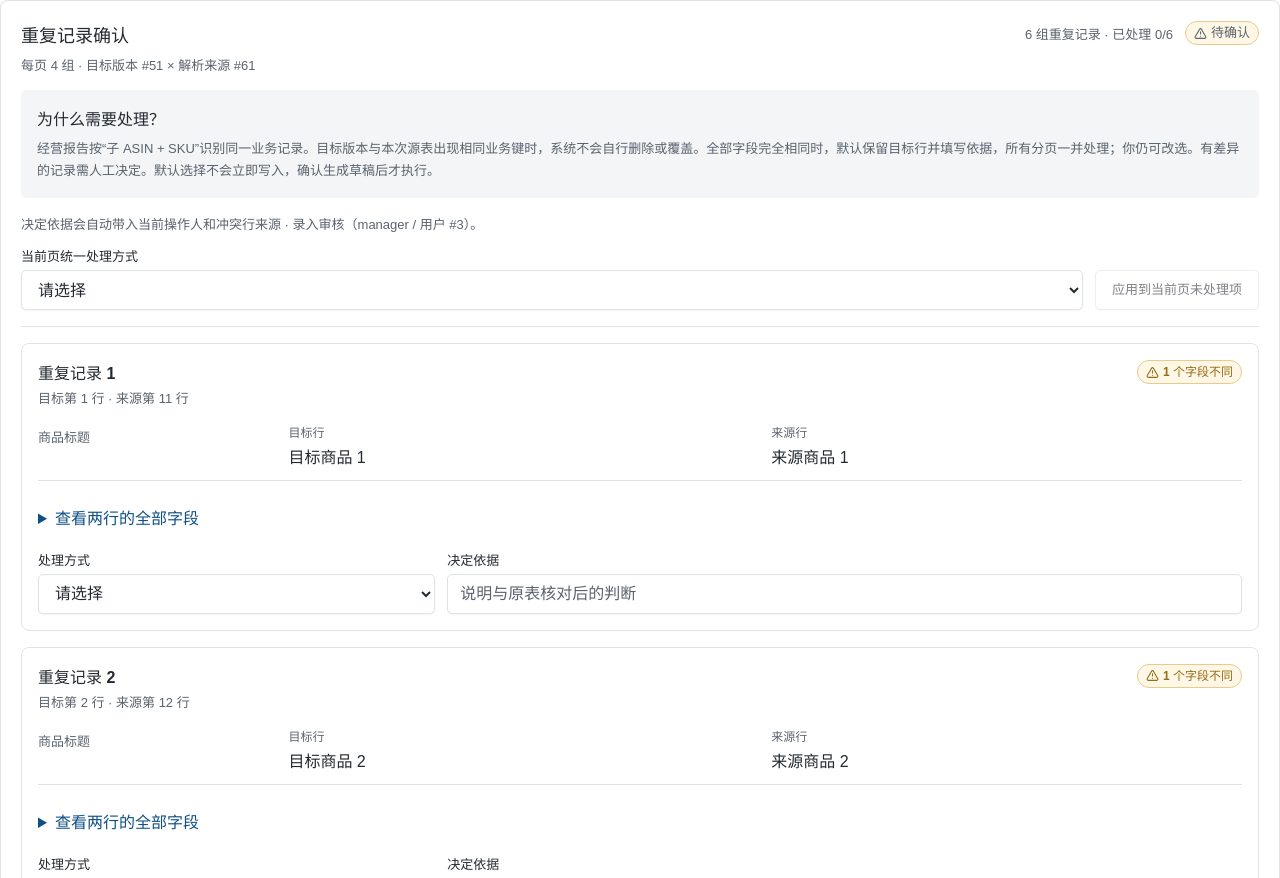
Test case: MergeDecisionMatrix › paginates long conflict lists and applies an auditable action to pending rows on the current page
The width and height of the screenshot is (1280, 878).
Expected: the text "6 组重复记录 · 已处理 0/6" is shown, x1=1025 y1=24 x2=1173 y2=43
Select "保留目标行" in the dropdown labelled "当前页统一处理方式": (552, 290) x1=21 y1=270 x2=1083 y2=310
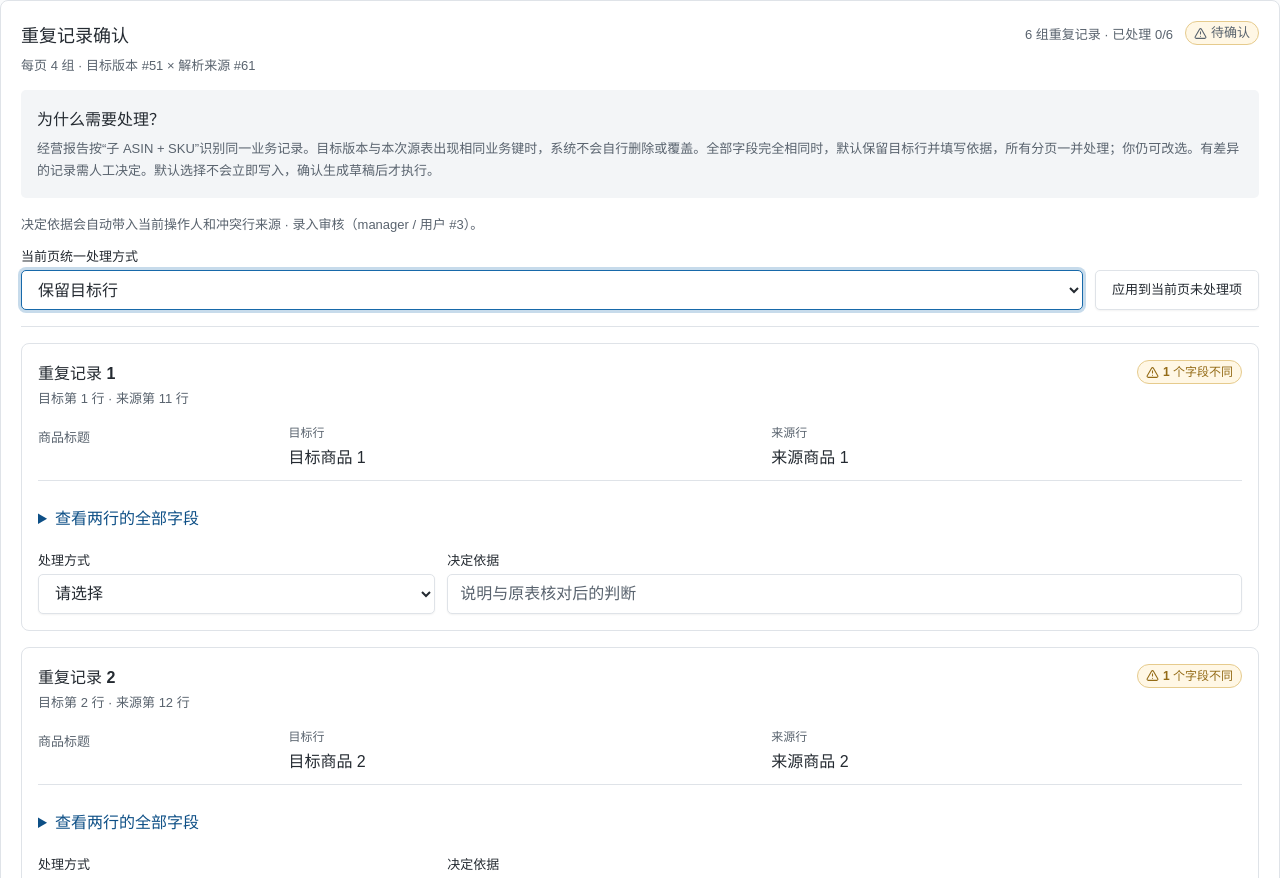
Click the button "应用到当前页未处理项": (1177, 290) x1=1095 y1=270 x2=1259 y2=310
(page scrolled)
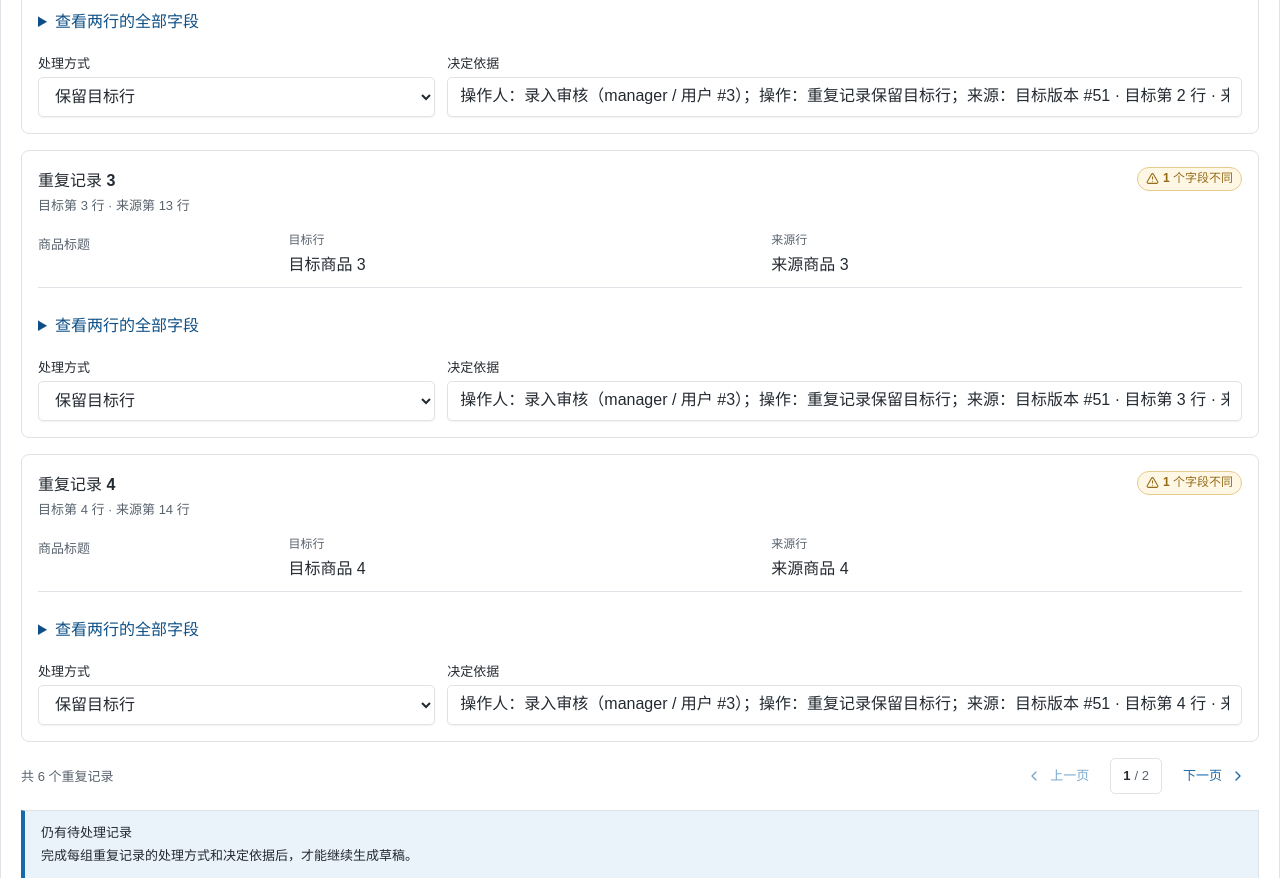
Click the button "下一页": (1214, 776) x1=1170 y1=758 x2=1259 y2=794
(page scrolled)
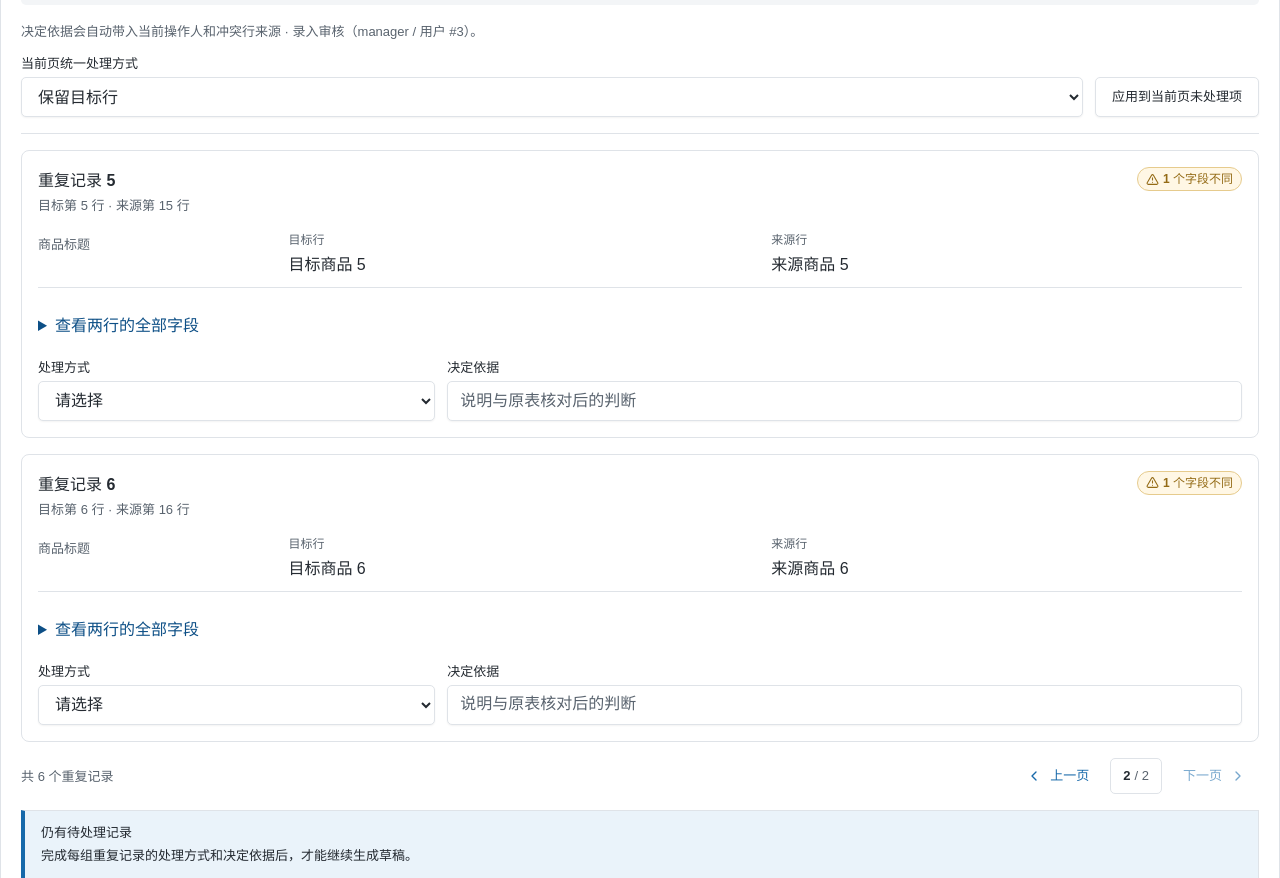
Expected: the dropdown named "重复记录 5 处理方式" is shown, x1=38 y1=381 x2=435 y2=421
